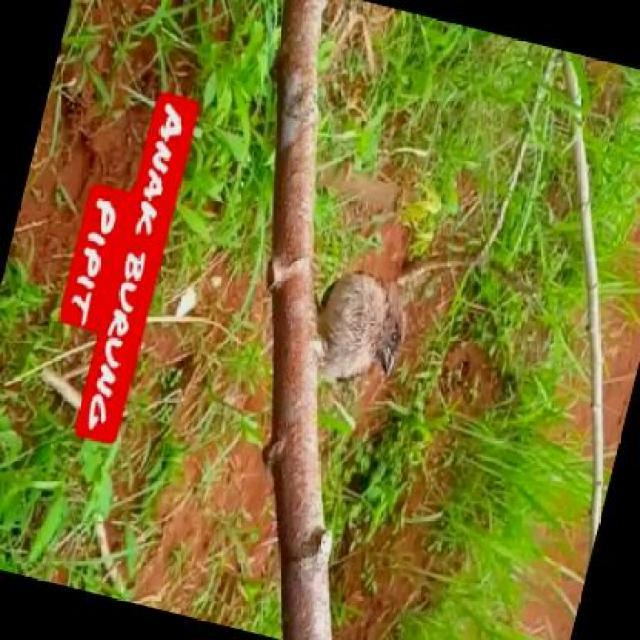Bird: (317, 255, 410, 397)
